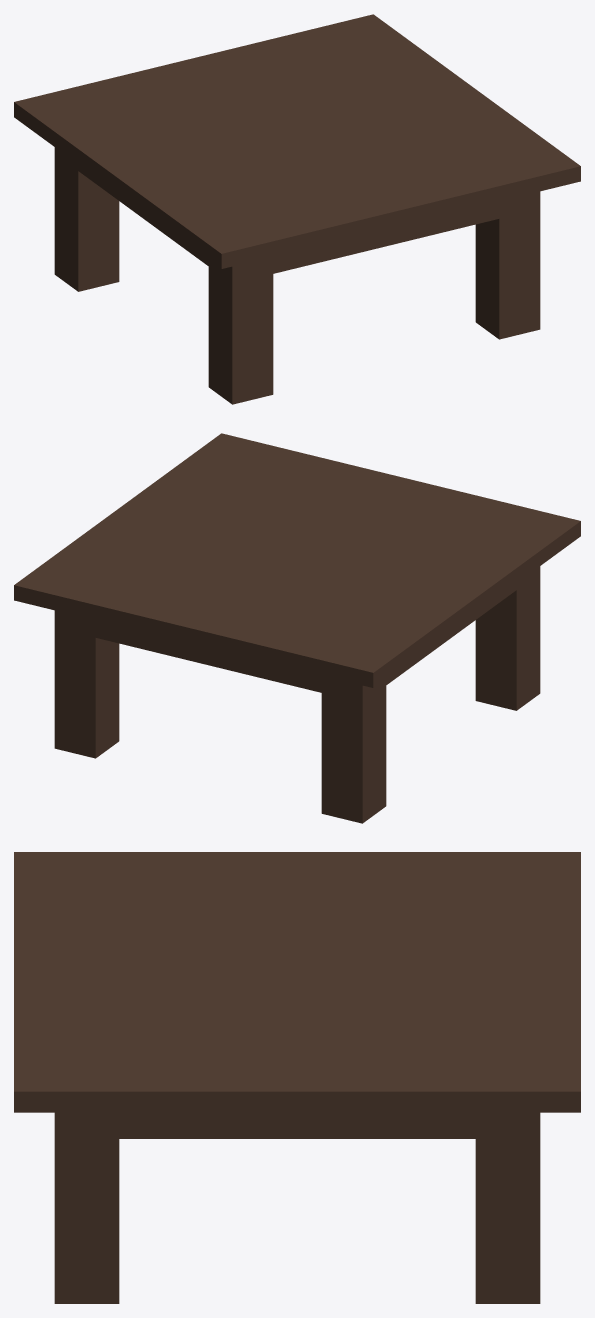
Rendered from S_SquareTable.fbx.
3 views of the same model, one above another, from view 1: azimuth 30°, elevation 25°; view 2: azimuth 150°, elevation 25°; view 3: azimuth 270°, elevation 25° (orthographic). The views are drawn at different scales.
Parts seen in each view (by area): view 1: S_SquareTable; view 2: S_SquareTable; view 3: S_SquareTable.
Part boxes in pixels (x1,y1,x2,y2): S_SquareTable: [14, 14, 580, 404]; S_SquareTable: [14, 433, 580, 823]; S_SquareTable: [14, 852, 580, 1303].
Bounding box in the file's own units: 117 × 52.15 × 117.
